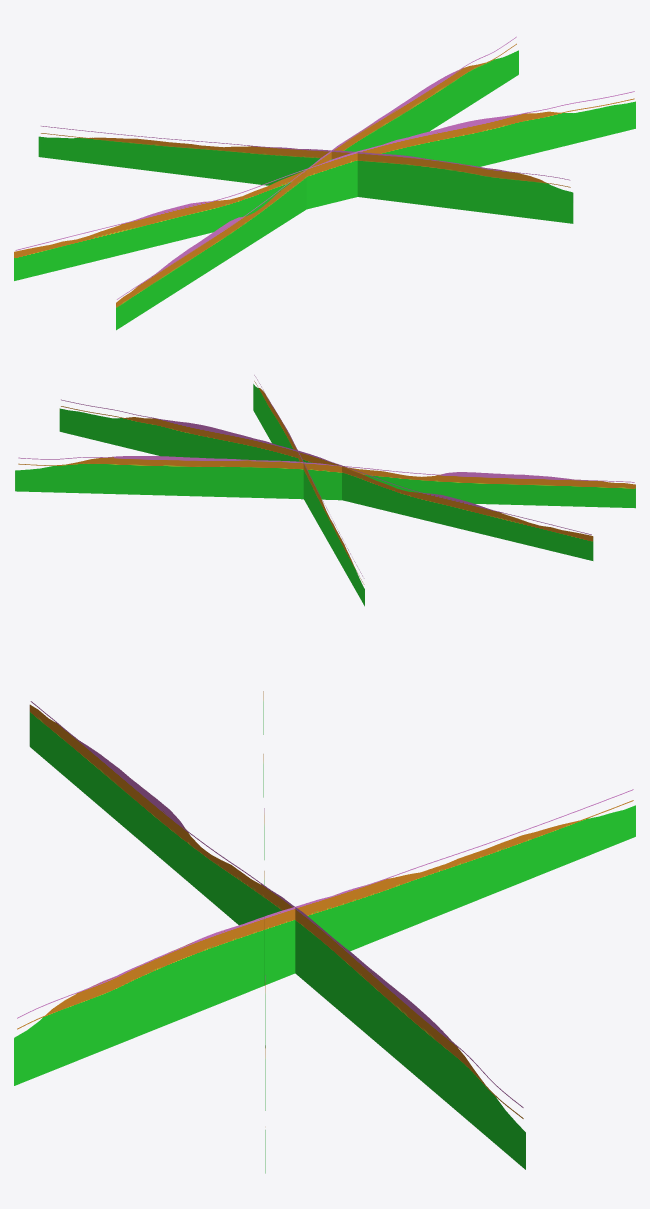
File: sections2.glb
The picture shows the model from 3 angles, top to bottom: view 1: azimuth 30°, elevation 25°; view 2: azimuth 150°, elevation 25°; view 3: azimuth 270°, elevation 25°; orthographic projection. The views are drawn at different scales.
Visible parts, largest first — view 1: Asset3DLoader.sceneRoot; view 2: Asset3DLoader.sceneRoot; view 3: Asset3DLoader.sceneRoot.
Boxes of the visible parts, x1,y1,x2,y2 form: Asset3DLoader.sceneRoot: (14,36,635,330); Asset3DLoader.sceneRoot: (15,375,635,606); Asset3DLoader.sceneRoot: (14,691,635,1173).
Bounding box in the file's own units: 3263 × 300 × 1835.
3 materials, 3 textured.
